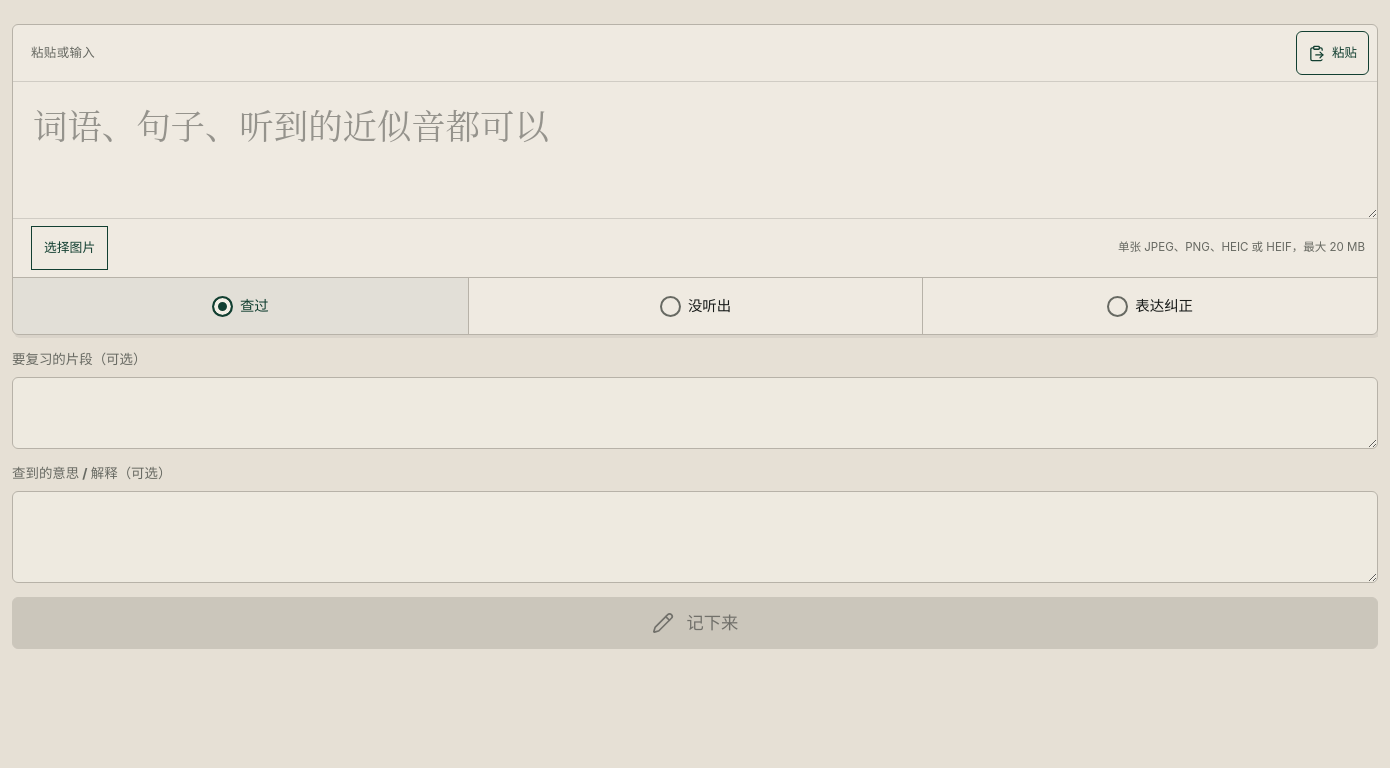
Scenario: CaptureComposer › pastes clipboard text into the primary capture field without any setup flow
This screenshot has width=1390, height=768.
Expected: the text box with placeholder "词语、句子、听到的近似音都可以" is shown, [13,82,1377,218]
Click the button "粘贴". click: {"x": 1332, "y": 53}
box: [1296,31,1369,75]
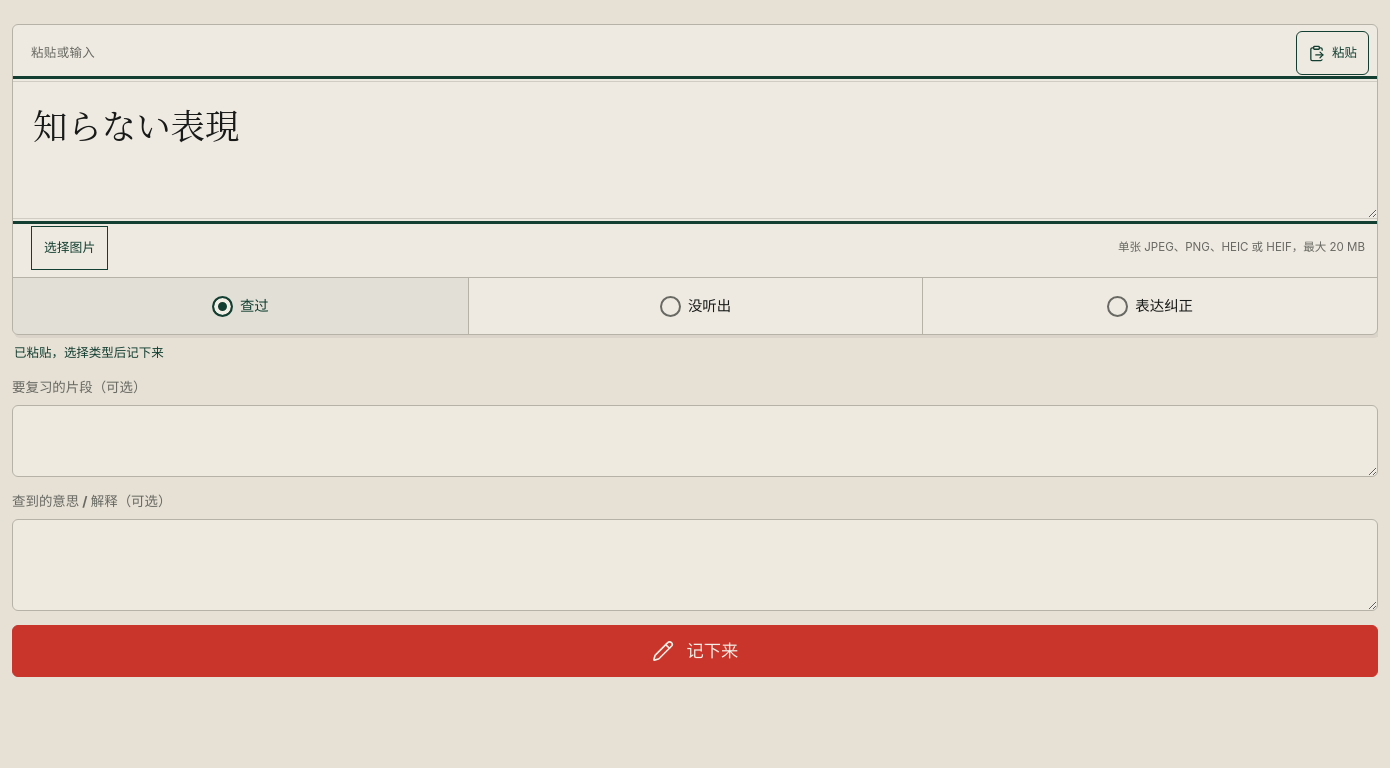
Expected: the text box named "遇到的词或表达" holds "知らない表現", [13,82,1377,218]
Expected: the message reads "已粘贴，选择类型后记下来", [14,345,164,360]
